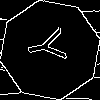Y: (25, 25, 76, 67)
